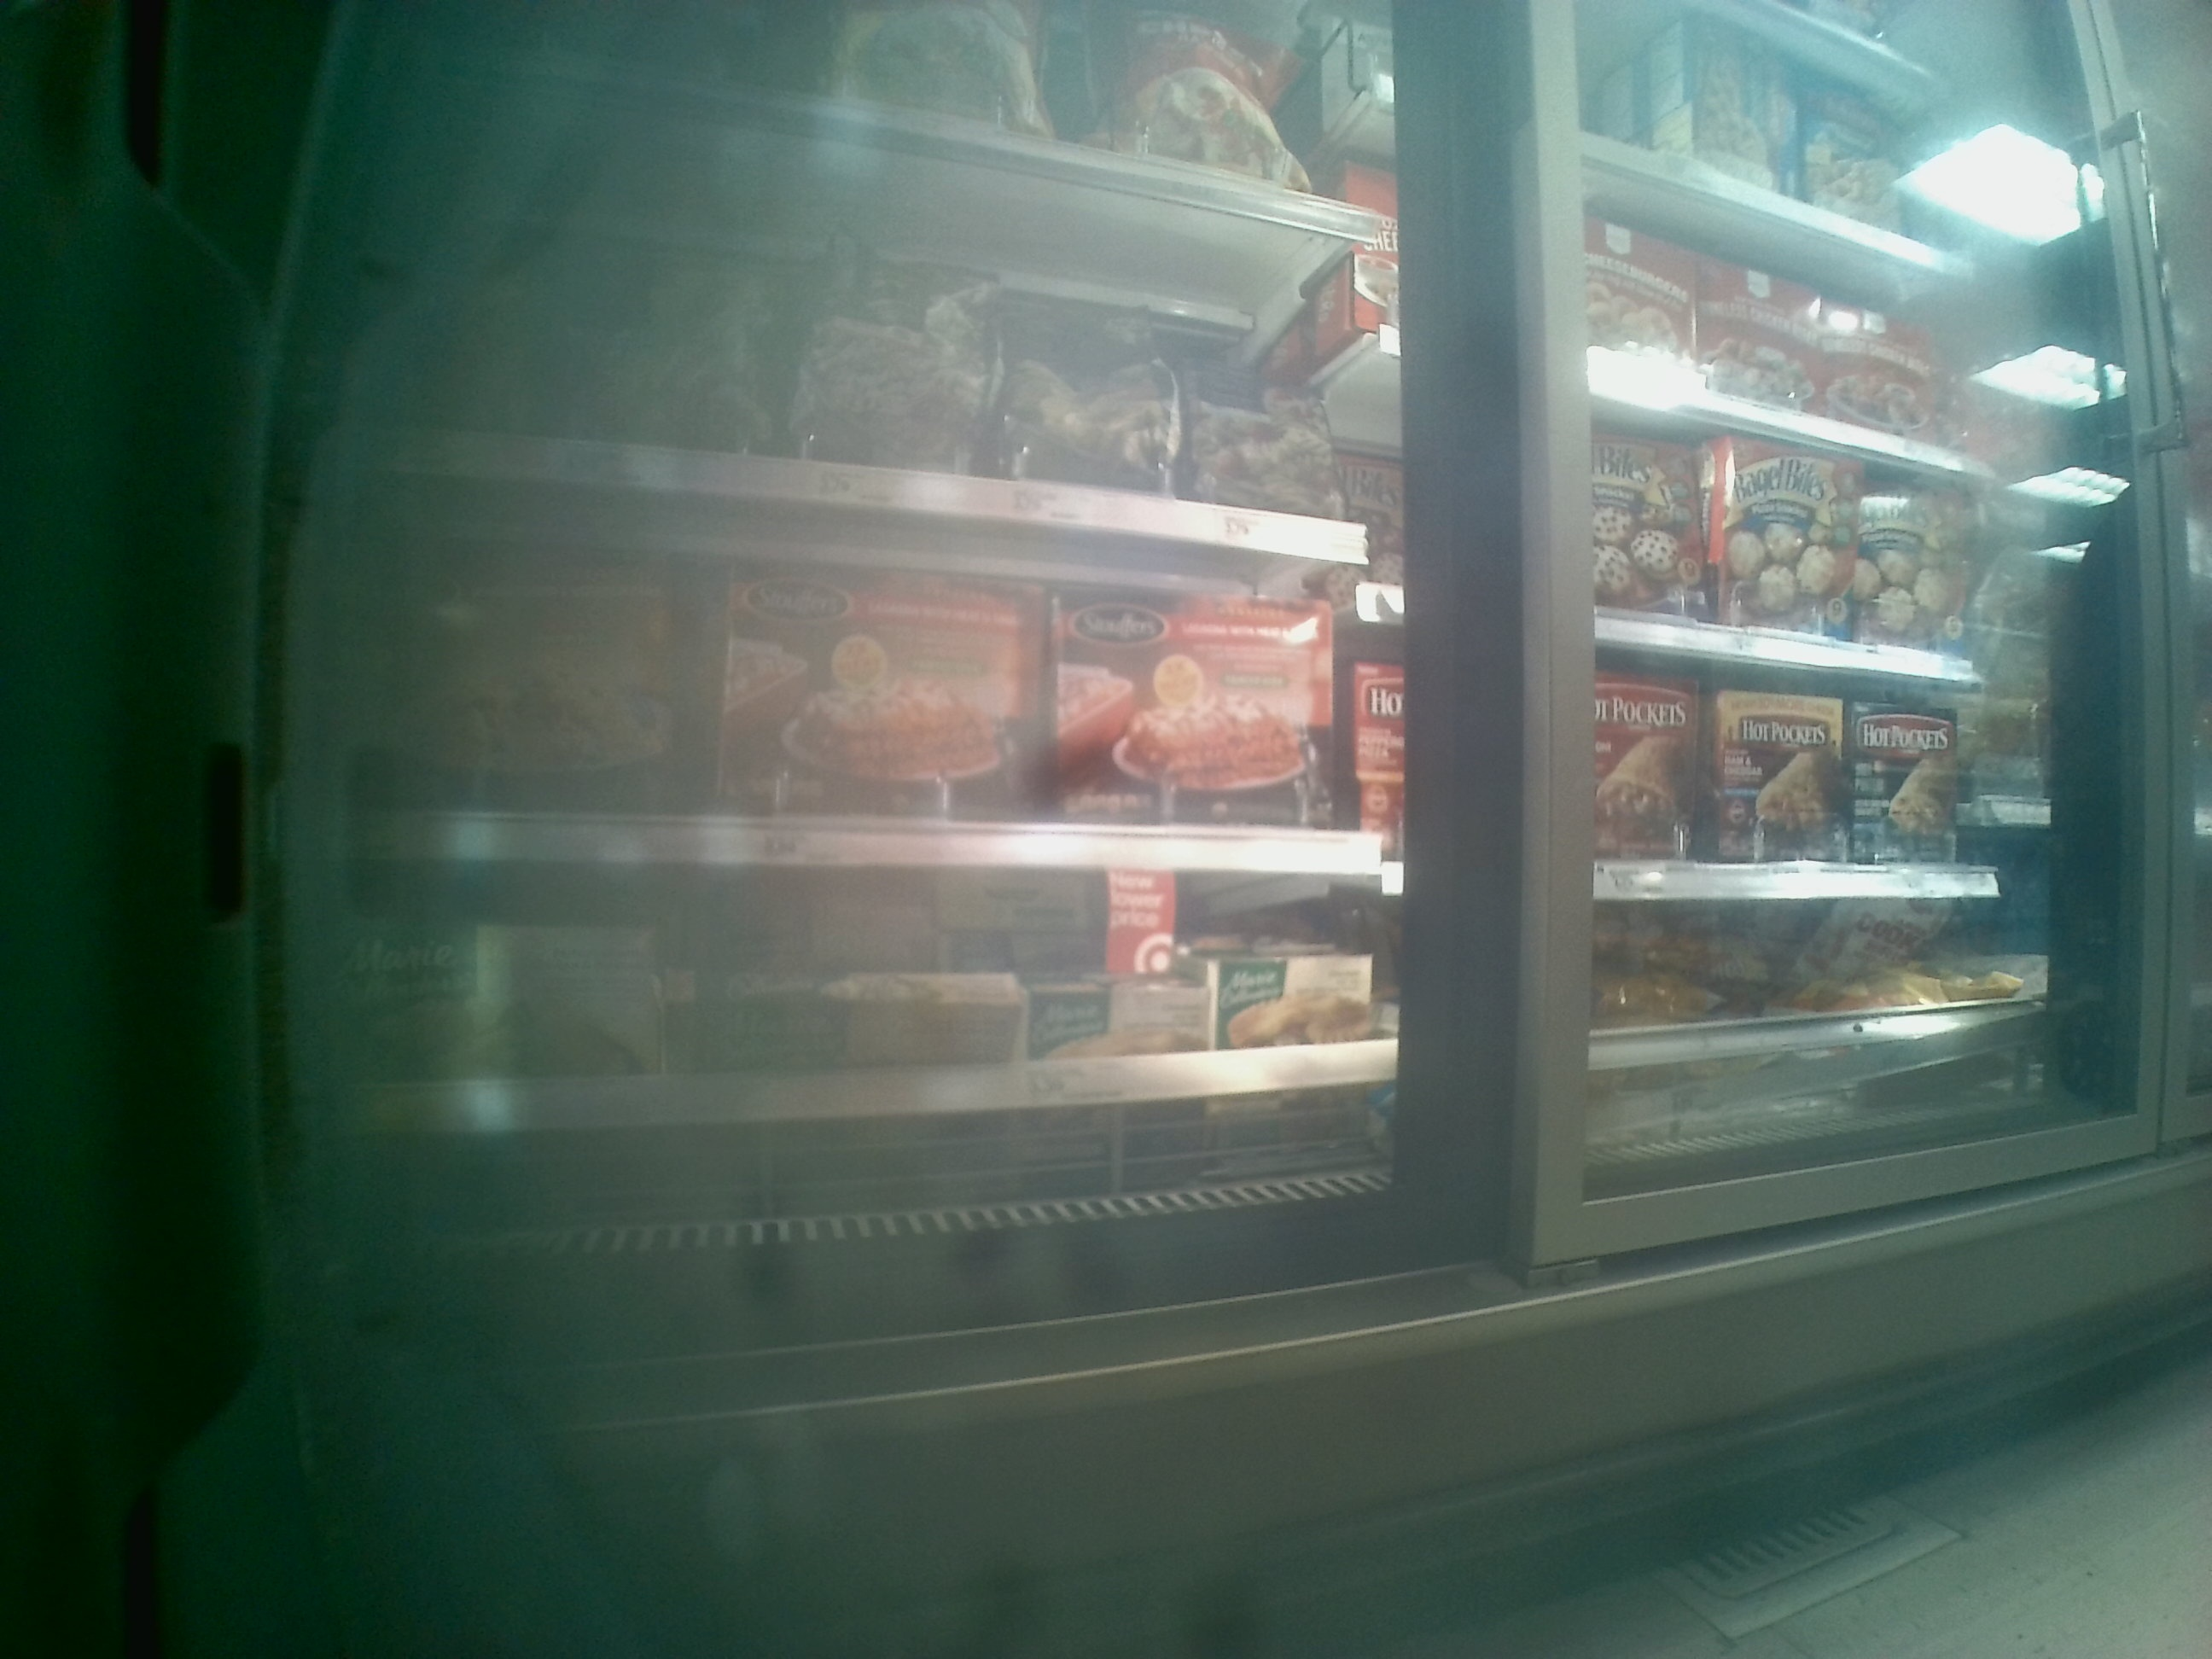shelf: (348, 864, 1407, 1288), (343, 448, 1414, 863)
